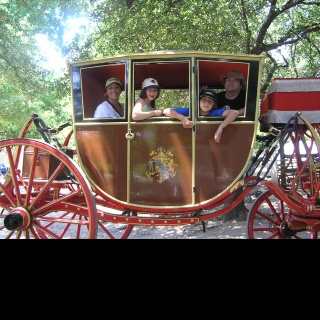without_mask: (225, 77, 243, 95), (106, 82, 123, 101), (200, 96, 214, 113), (146, 87, 159, 102)
